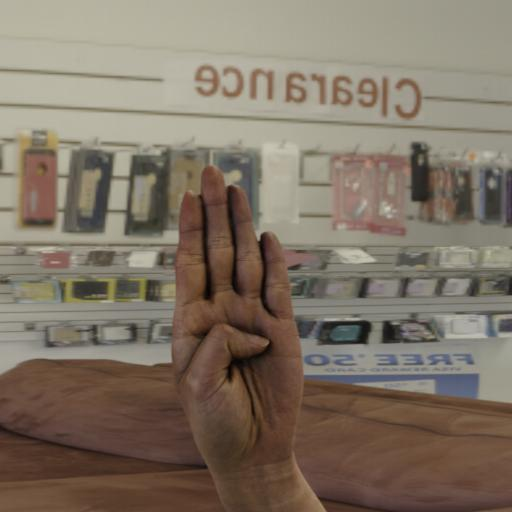B: (156, 159, 320, 469)
